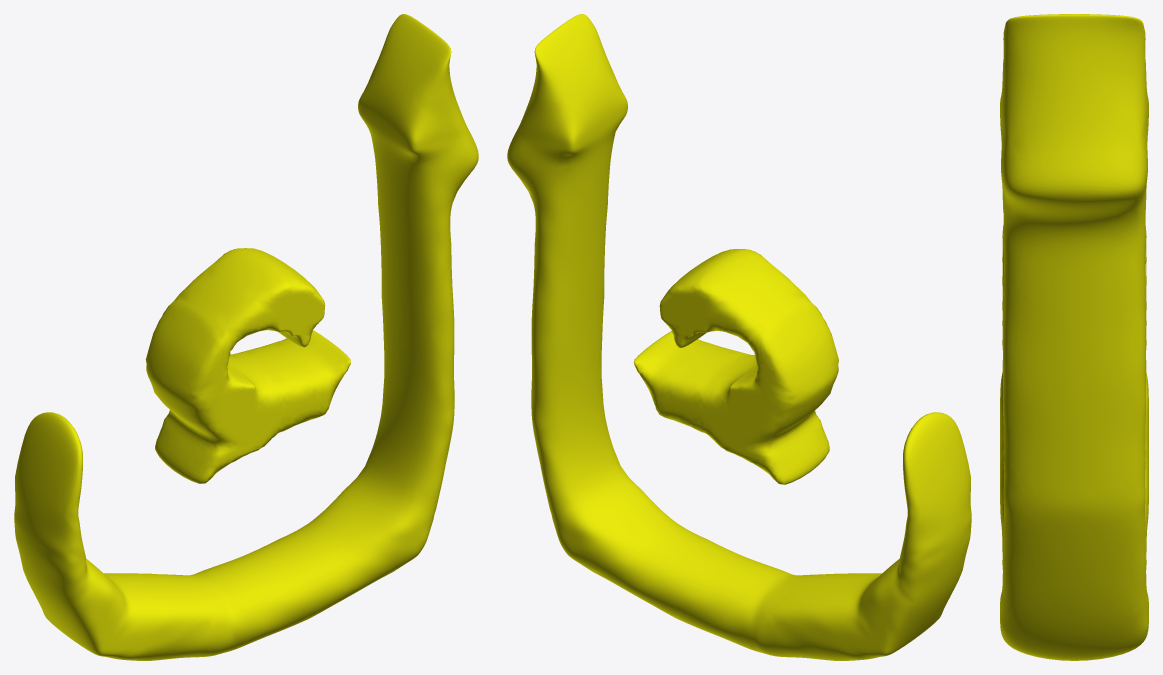
3 views of the same model, side by side, from view 1: azimuth 30°, elevation 25°; view 2: azimuth 150°, elevation 25°; view 3: azimuth 270°, elevation 25° (orthographic). The views are drawn at different scales.
Parts seen in each view (by area): view 1: char_1, char_2; view 2: char_1, char_2; view 3: char_1.
Boxes of the visible parts, box(x1,y1,x2,y2) form: char_1: box(14, 14, 478, 660); char_2: box(145, 248, 350, 483); char_1: box(507, 14, 971, 660); char_2: box(633, 249, 838, 484); char_1: box(1000, 14, 1148, 660).
Size of the model in its own units: 6.15 by 7.65 by 1.4.
